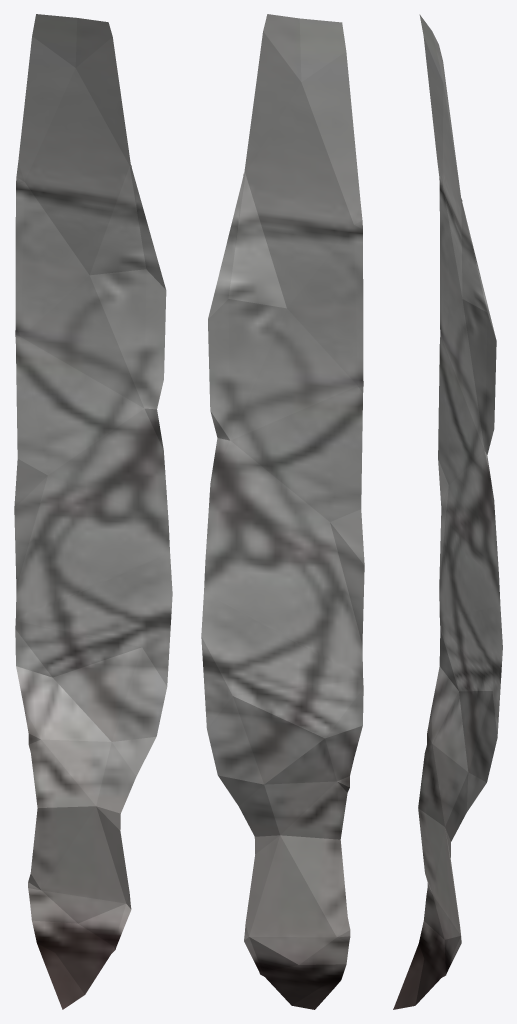
3 renders of one model, left to right at view 1: azimuth 30°, elevation 25°; view 2: azimuth 210°, elevation 25°; view 3: azimuth 330°, elevation 25°, orthographic. The views are drawn at different scales.
Bounding box in the file's own units: 0.0861 × 0.7302 × 0.0655.
Materials: 1 (1 with a texture image).
